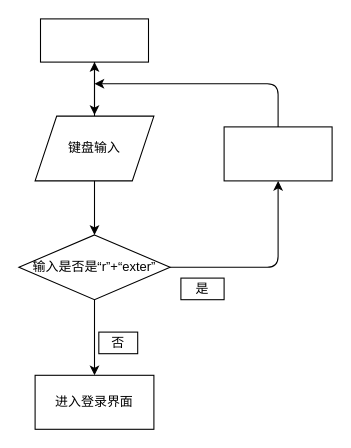
Some shapes in this 351 by 448 pixel diagram are drawn without their labels. Each missing label, with the box of its shape:
名人名言随机刷新: (223, 126, 332, 181)
欢迎界面: (39, 18, 148, 62)
